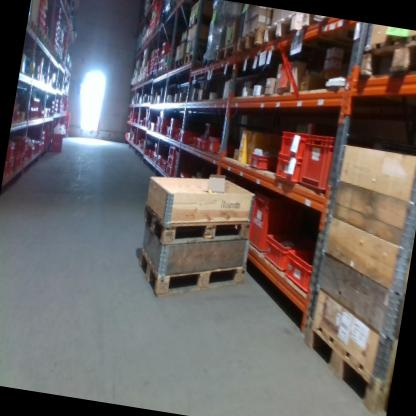pallet: (292, 311, 398, 415), (139, 189, 253, 260), (134, 245, 247, 310), (355, 23, 416, 89), (260, 7, 303, 47), (233, 22, 266, 59), (299, 13, 339, 38), (213, 36, 239, 68), (186, 10, 213, 35), (182, 48, 205, 69), (32, 25, 45, 47), (26, 17, 40, 36), (41, 32, 51, 51), (173, 55, 183, 71)
small_load_carrier: (247, 190, 303, 256), (299, 135, 339, 196), (262, 231, 315, 273), (281, 249, 316, 297), (277, 127, 311, 162), (275, 156, 305, 184), (249, 148, 278, 174), (205, 132, 235, 156), (175, 127, 194, 146), (49, 133, 63, 151), (164, 164, 185, 175), (169, 116, 184, 129), (167, 156, 184, 167), (168, 146, 183, 158), (168, 125, 178, 140), (153, 143, 164, 155), (159, 116, 170, 128), (160, 43, 172, 53), (199, 139, 208, 152), (191, 135, 199, 148), (195, 136, 202, 149), (160, 158, 167, 169), (164, 126, 171, 137), (146, 146, 152, 157), (152, 151, 158, 161), (155, 117, 161, 126), (159, 53, 165, 61), (154, 124, 159, 131), (157, 156, 161, 164), (149, 151, 153, 159), (159, 62, 163, 69), (159, 126, 164, 131)
